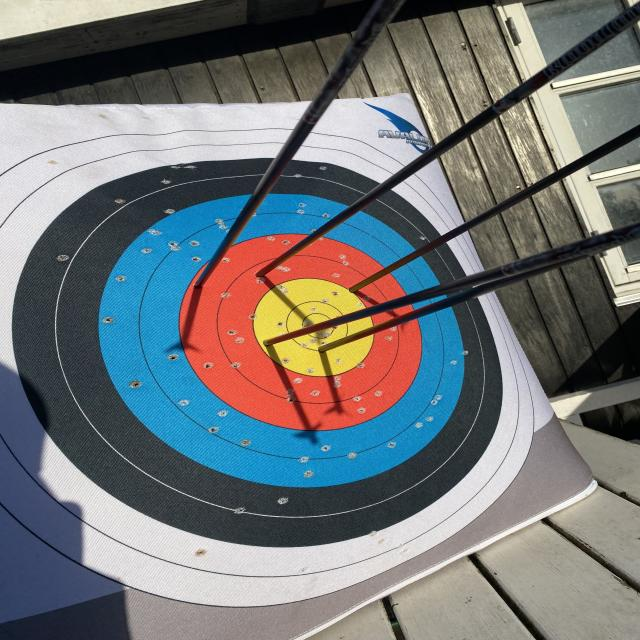Arrow_Red: (326, 269, 378, 314), (249, 245, 291, 300), (174, 268, 240, 298)
Arrow_Yellow: (242, 322, 298, 365), (303, 334, 369, 364)
